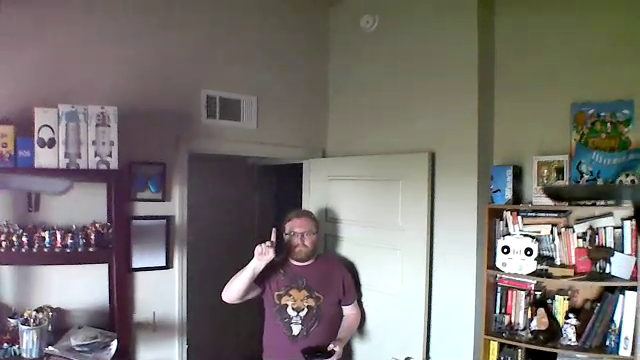up: (248, 223, 279, 264)
